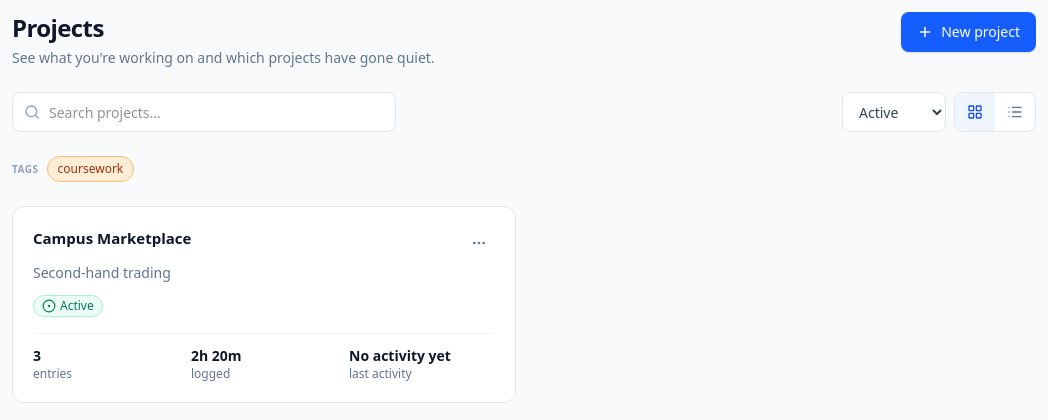
Test: ProjectsPage — loading and listing › hides archived projects by default and reveals them on request
Expected: the link "Campus Marketplace" is shown, top-left (33, 228), bottom-right (192, 248)
Expected: the text "Old Coursework" is not shown
Select "Archived" in the dropdown at (894, 112), box top-left (842, 92), bottom-right (946, 132)
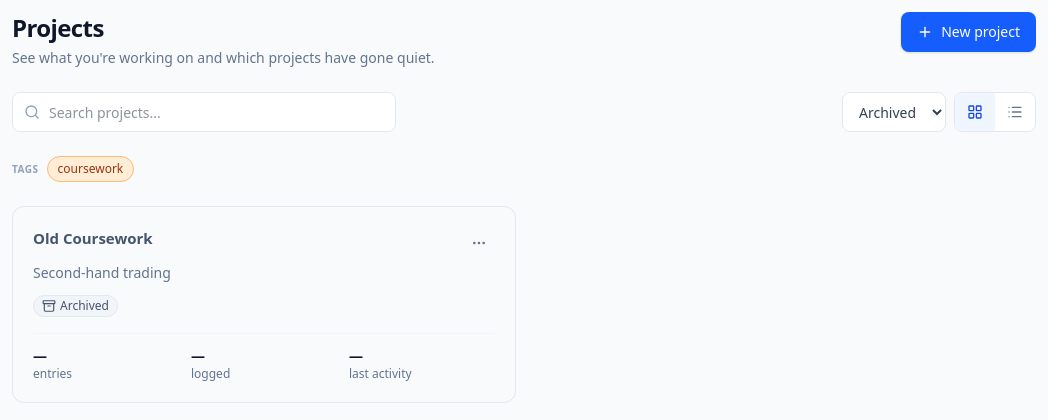
Result: the link "Old Coursework" is shown at top-left (33, 228), bottom-right (153, 248)
Result: the link "Campus Marketplace" is gone
